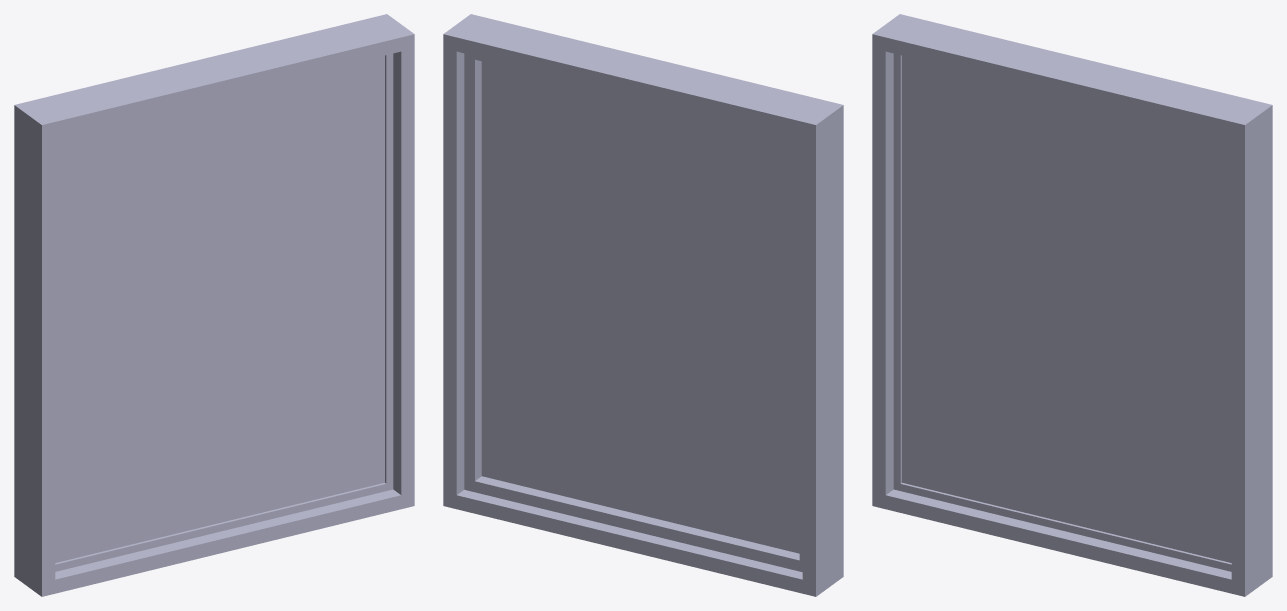
File: window1.fbx
3 views of the same model, side by side, from view 1: azimuth 30°, elevation 25°; view 2: azimuth 150°, elevation 25°; view 3: azimuth 330°, elevation 25° (orthographic).
Visible parts, largest first — view 1: Cube; view 2: Cube; view 3: Cube.
Part boxes in pixels (box(x1,y1,x2,y2)): Cube: box(14, 14, 414, 596); Cube: box(443, 14, 843, 596); Cube: box(872, 14, 1272, 596).
Bounding box in the file's own units: 226 × 274 × 29.02.
